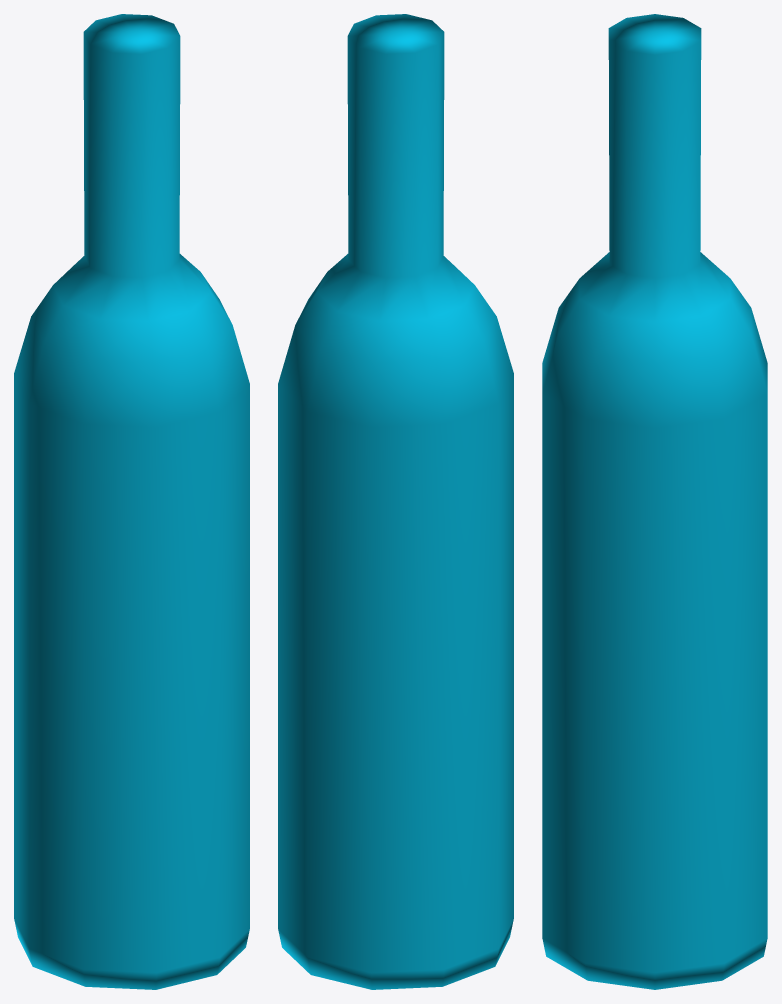
Rendered from Bottle_Wine_01_Lod0.fbx.
3 renders of one model, left to right at view 1: azimuth 30°, elevation 25°; view 2: azimuth 150°, elevation 25°; view 3: azimuth 270°, elevation 25°, orthographic.
Parts seen in each view (by area): view 1: Bottle_Wine_01_Lod0; view 2: Bottle_Wine_01_Lod0; view 3: Bottle_Wine_01_Lod0.
Part boxes in pixels (x1,y1,x2,y2): Bottle_Wine_01_Lod0: [14, 14, 249, 989]; Bottle_Wine_01_Lod0: [278, 14, 513, 989]; Bottle_Wine_01_Lod0: [542, 14, 767, 989].
Size of the model in its own units: 6.91 by 29.24 by 6.57.
